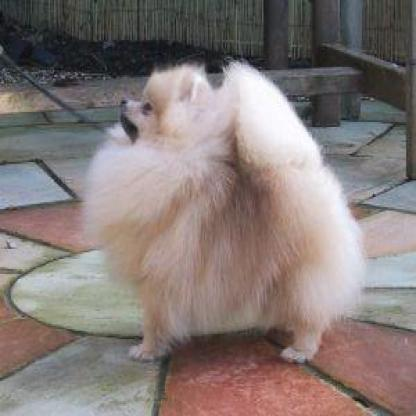Pomeranian: (79, 60, 362, 364)
